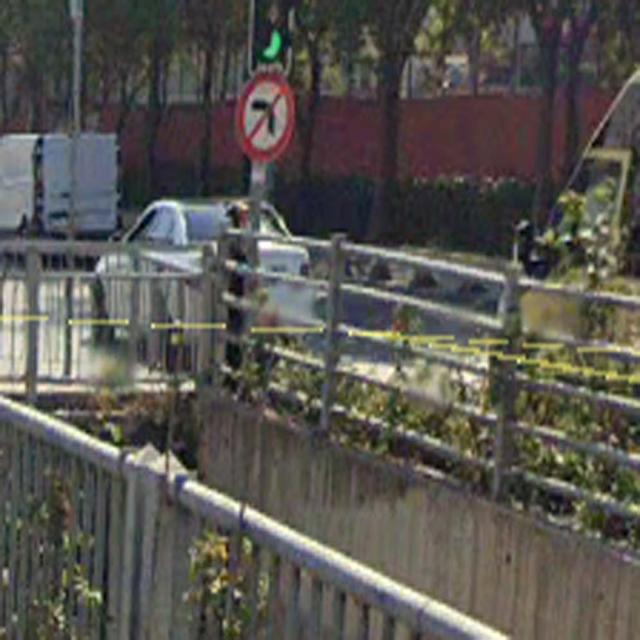soladonulmez: (238, 73, 298, 163)
